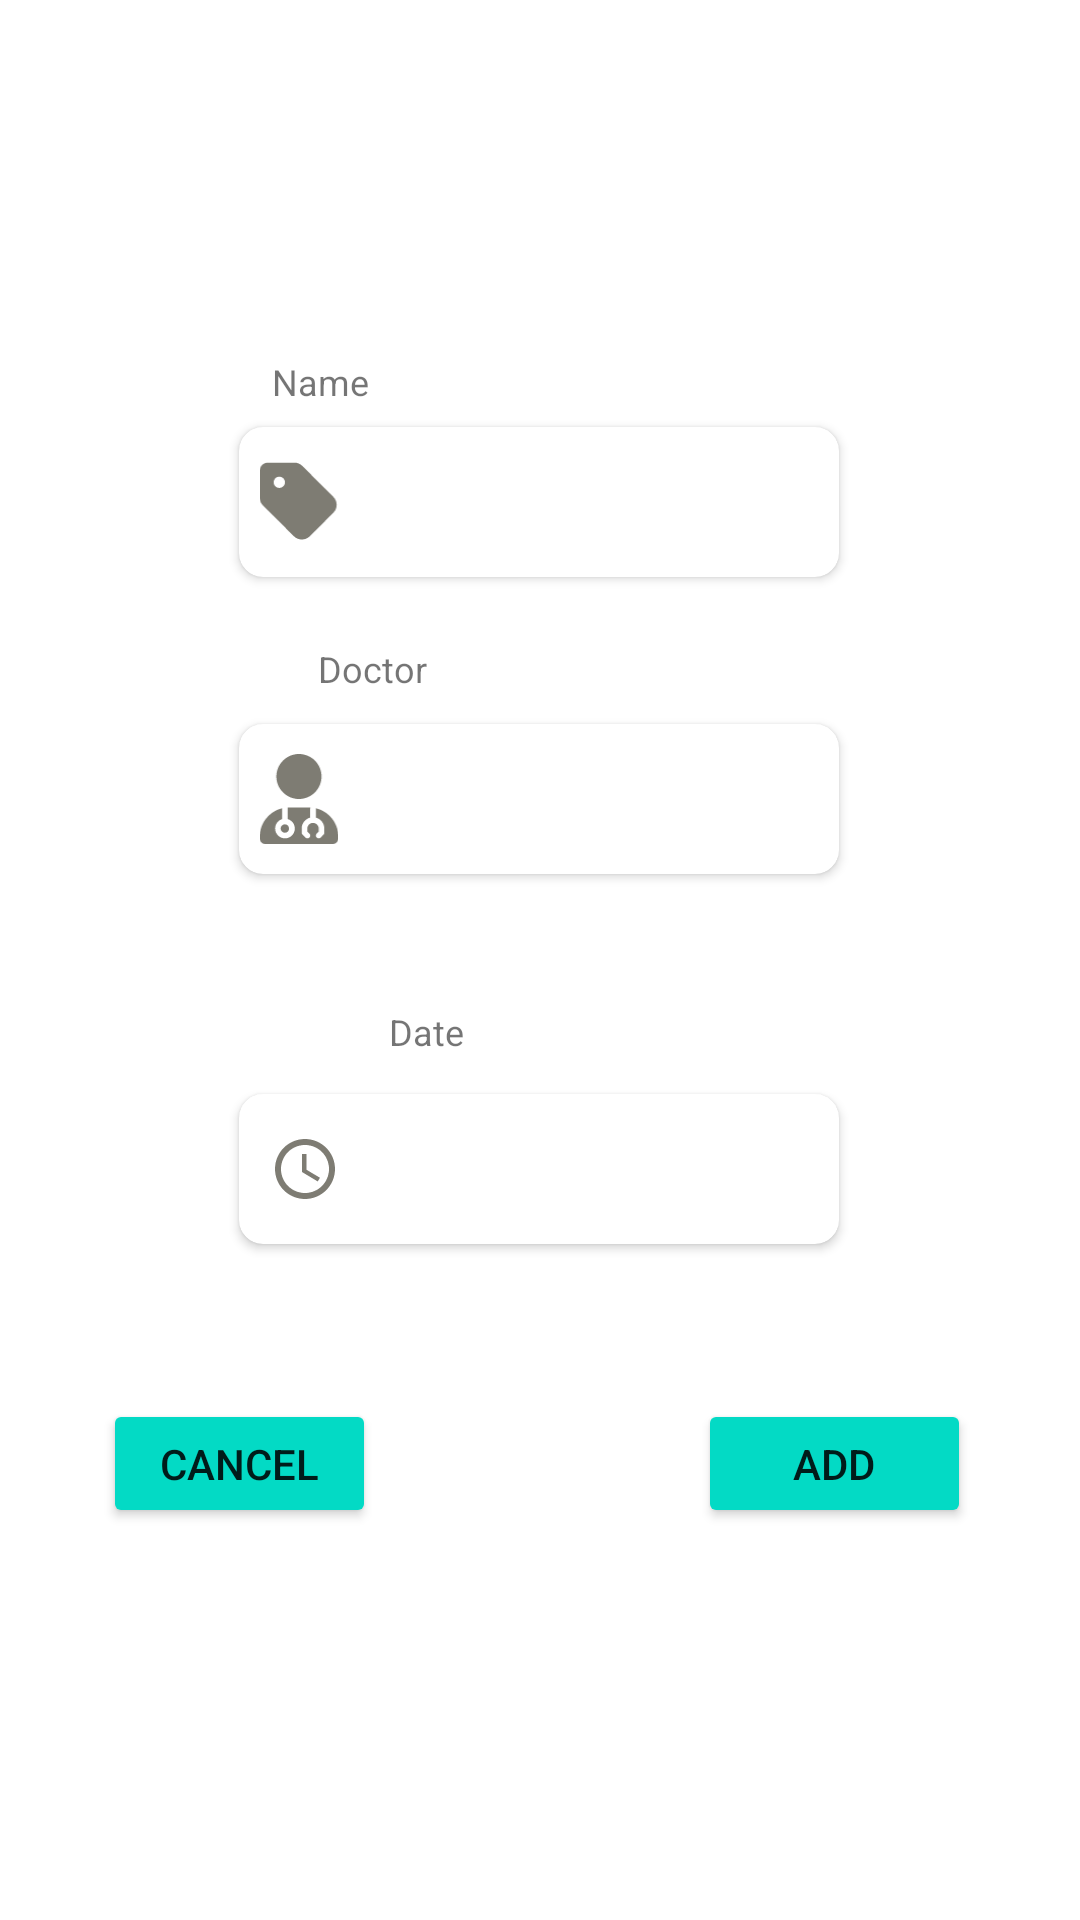

Named icons in this screenshot (1080×1920) and their bounding boxes, region(x1, y1, x2, y2):
tag: region(260, 462, 337, 540)
